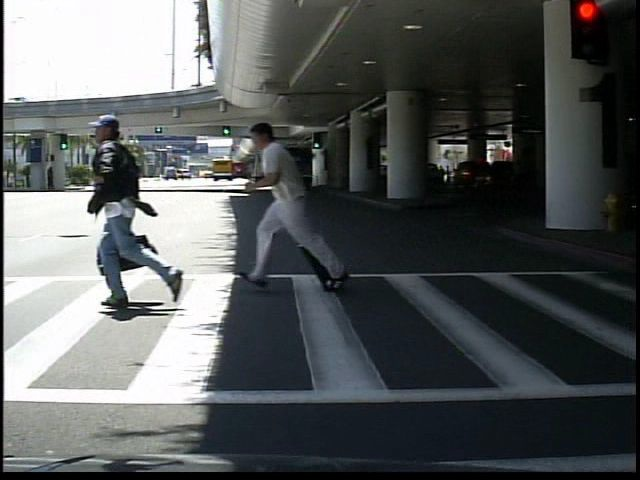person: (88, 113, 176, 312), (261, 115, 332, 294)
